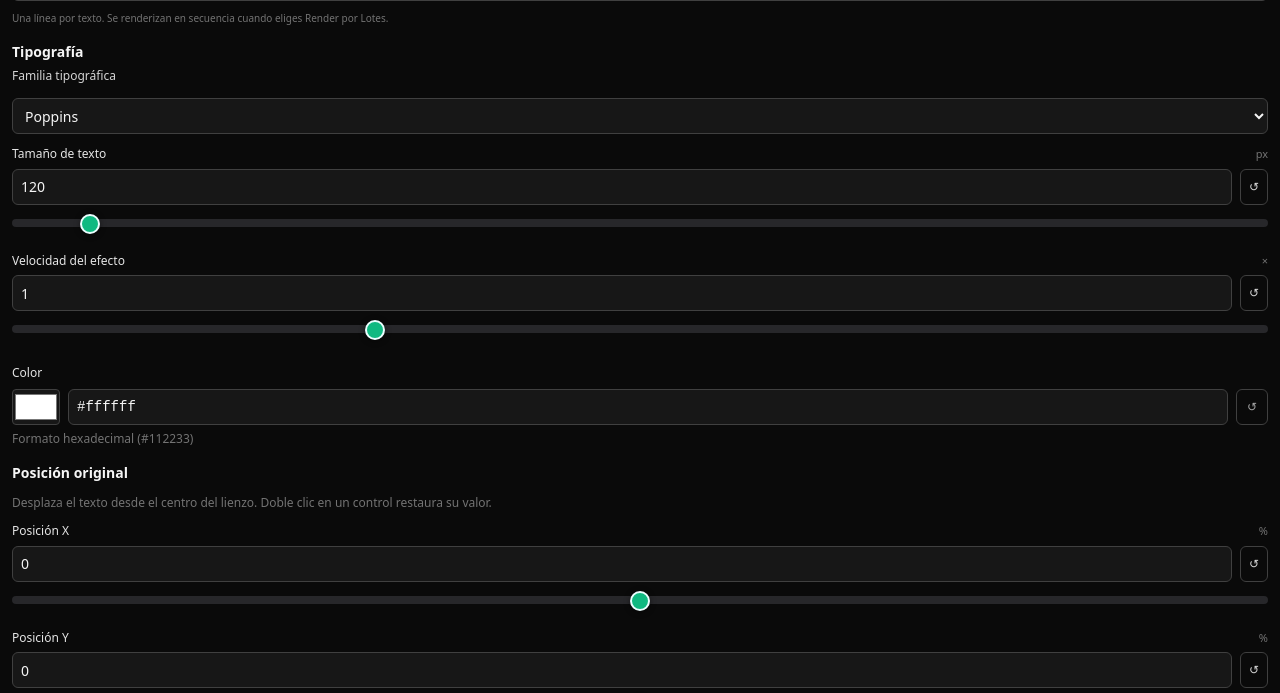
it: TextBasicTab › expone velocidad independiente para el efecto de texto
The image size is (1280, 693).
(page scrolled)
Replace the text in the number field labelled "Velocidad del efecto" with "2" at [622, 293], box [12,275,1232,311]
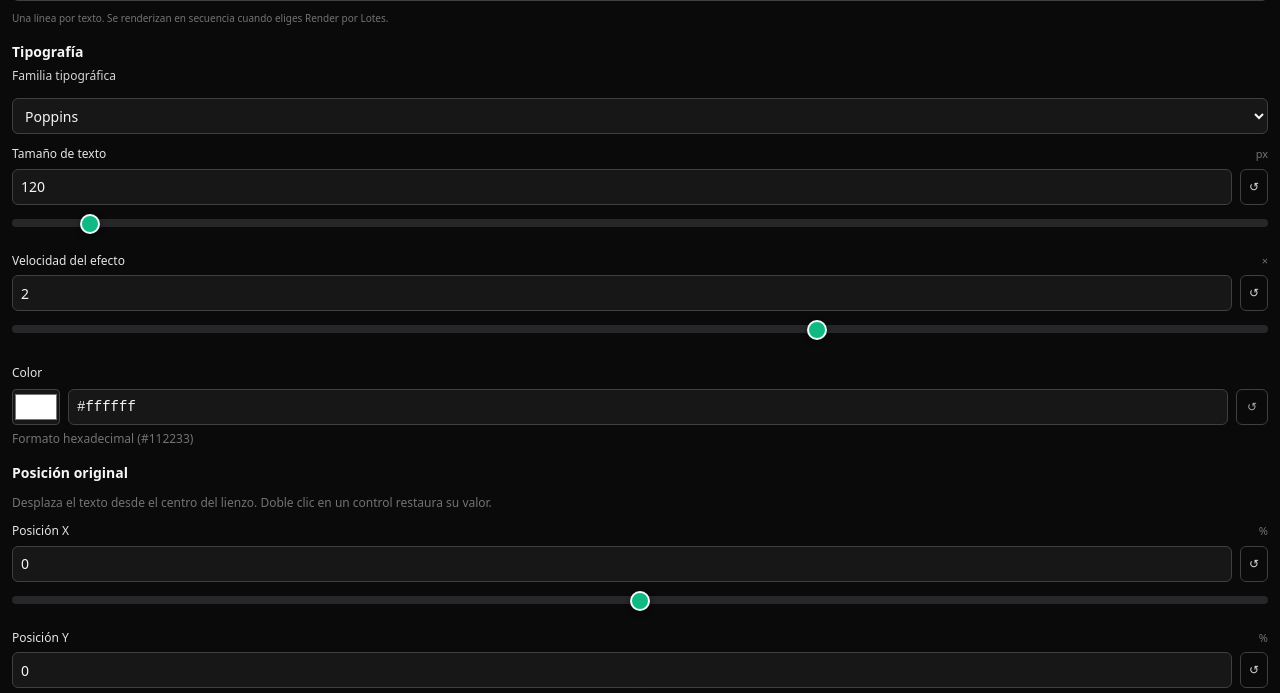
Result: the slider named "Velocidad del efecto deslizador" holds "2" at [12,317,1268,341]
